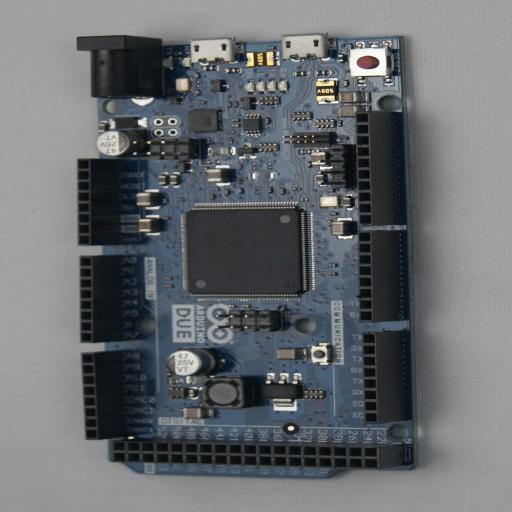Arduino Due: (77, 33, 436, 479)
